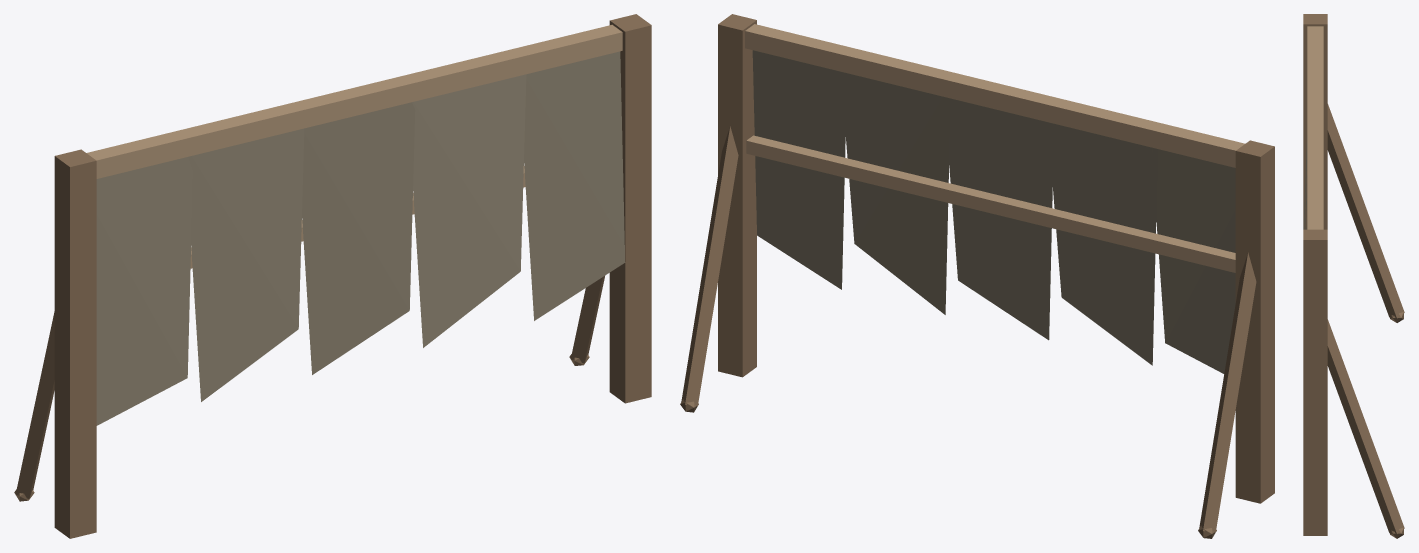
The model's file is net_rack.glb.
3 renders of one model, left to right at view 1: azimuth 30°, elevation 25°; view 2: azimuth 150°, elevation 25°; view 3: azimuth 270°, elevation 25°, orthographic. The views are drawn at different scales.
Visible parts, largest first — view 1: net_rack; view 2: net_rack; view 3: net_rack.
Part boxes in pixels (x1,y1,x2,y2): net_rack: [14, 14, 651, 538]; net_rack: [680, 14, 1274, 538]; net_rack: [1303, 14, 1404, 538].
Bounding box in the file's own units: 2.62 × 1.63 × 0.4979.
